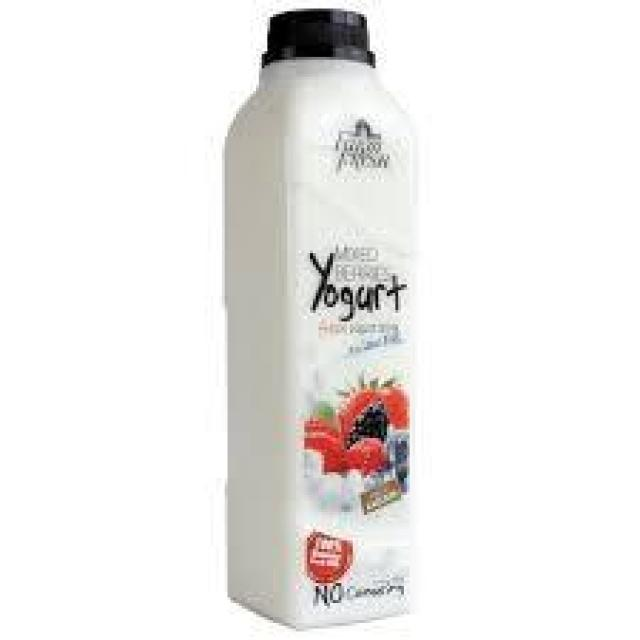bottle: (220, 10, 422, 630)
